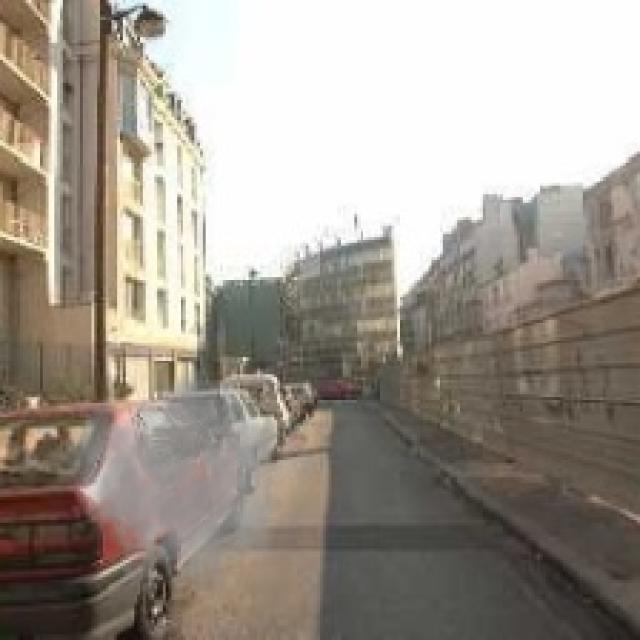smoke: (60, 363, 294, 600)
